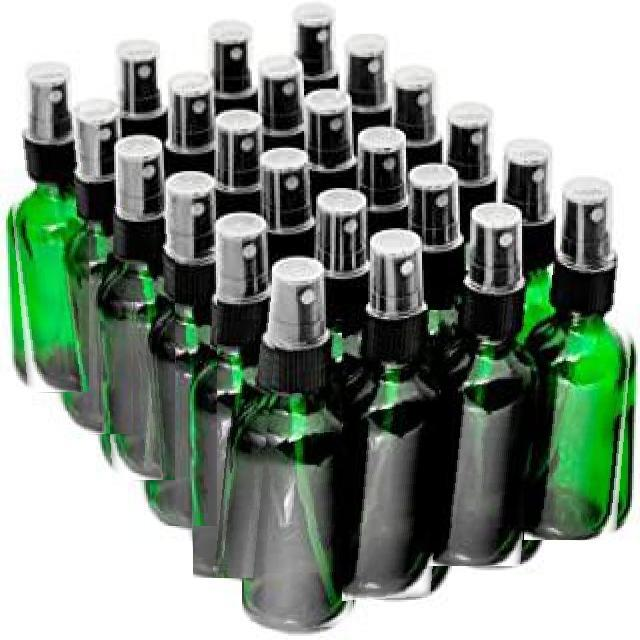Glass: (242, 327, 359, 630), (428, 274, 546, 566), (342, 310, 454, 602), (524, 254, 638, 540), (193, 286, 281, 578), (5, 131, 89, 392), (96, 210, 176, 480), (142, 244, 217, 526), (52, 174, 133, 434)
